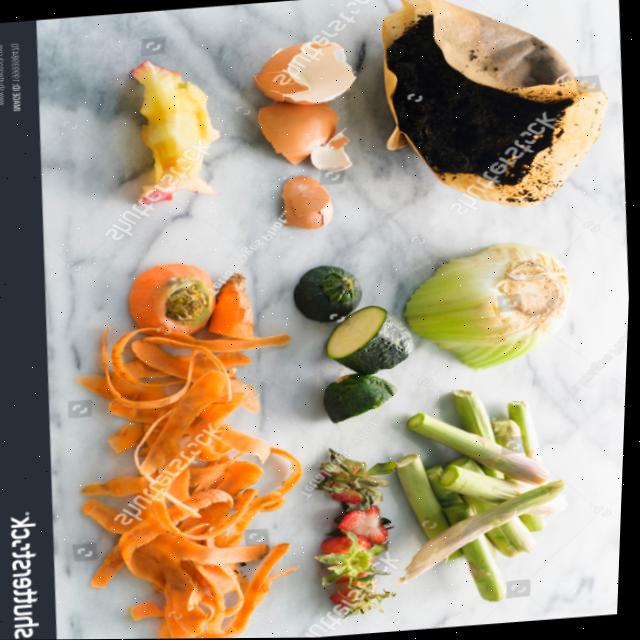Dry: (370, 0, 619, 217), (252, 97, 362, 178), (249, 35, 361, 107), (282, 173, 338, 228)
Wet: (64, 312, 322, 640), (393, 381, 581, 607), (400, 237, 584, 374), (404, 481, 581, 588), (311, 442, 410, 628), (125, 55, 230, 209), (407, 400, 558, 496), (440, 499, 517, 604), (127, 260, 220, 340), (323, 302, 419, 378), (315, 369, 403, 426), (292, 263, 370, 324), (205, 270, 264, 348)
